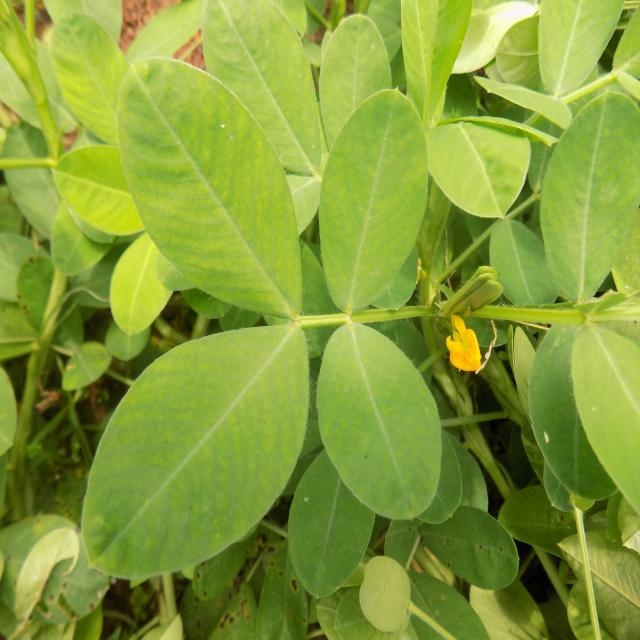Ground nut_healthy: (83, 320, 310, 580), (117, 58, 312, 315), (318, 321, 445, 517), (320, 90, 428, 308), (542, 90, 638, 303)
